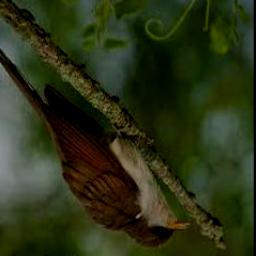Cuckoo: (0, 42, 189, 249)
